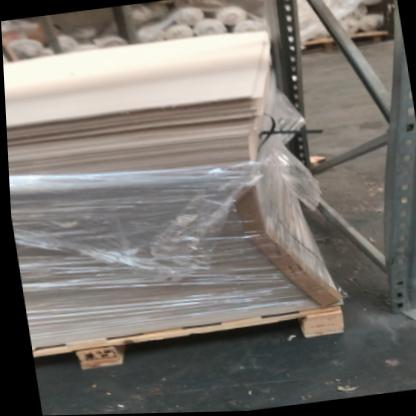vertical_damage: (360, 228, 416, 336)
